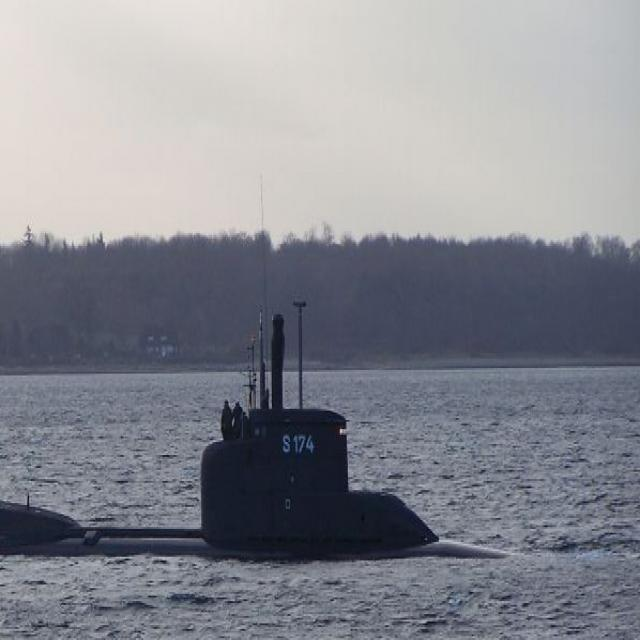submarine: (1, 405, 507, 562)
